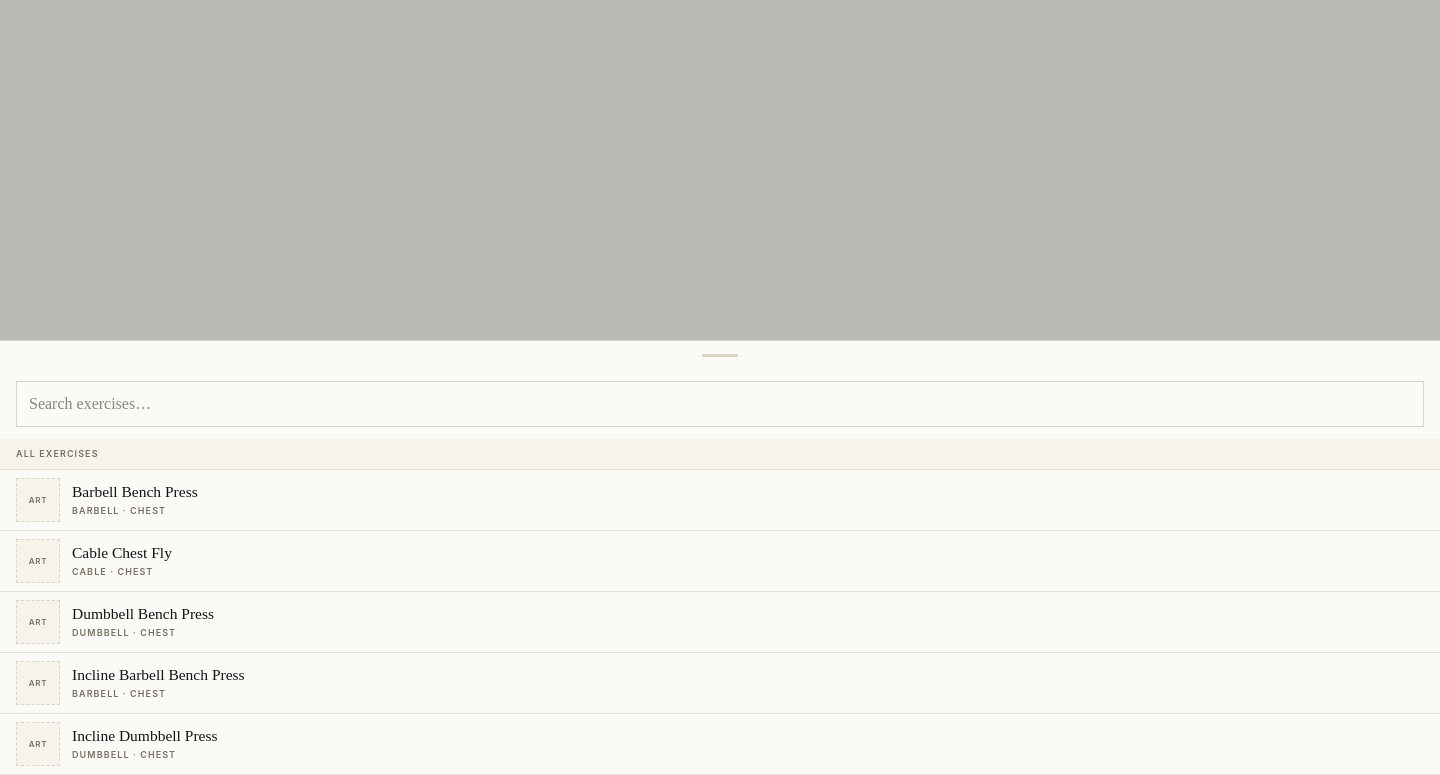
ExercisePicker › says so plainly when nothing matches, including that you cannot add your own yet
The image size is (1440, 775).
Type "zercher carry" into the search field with test id "exercise-search" at {"x": 720, "y": 404}, box [16, 381, 1424, 427]
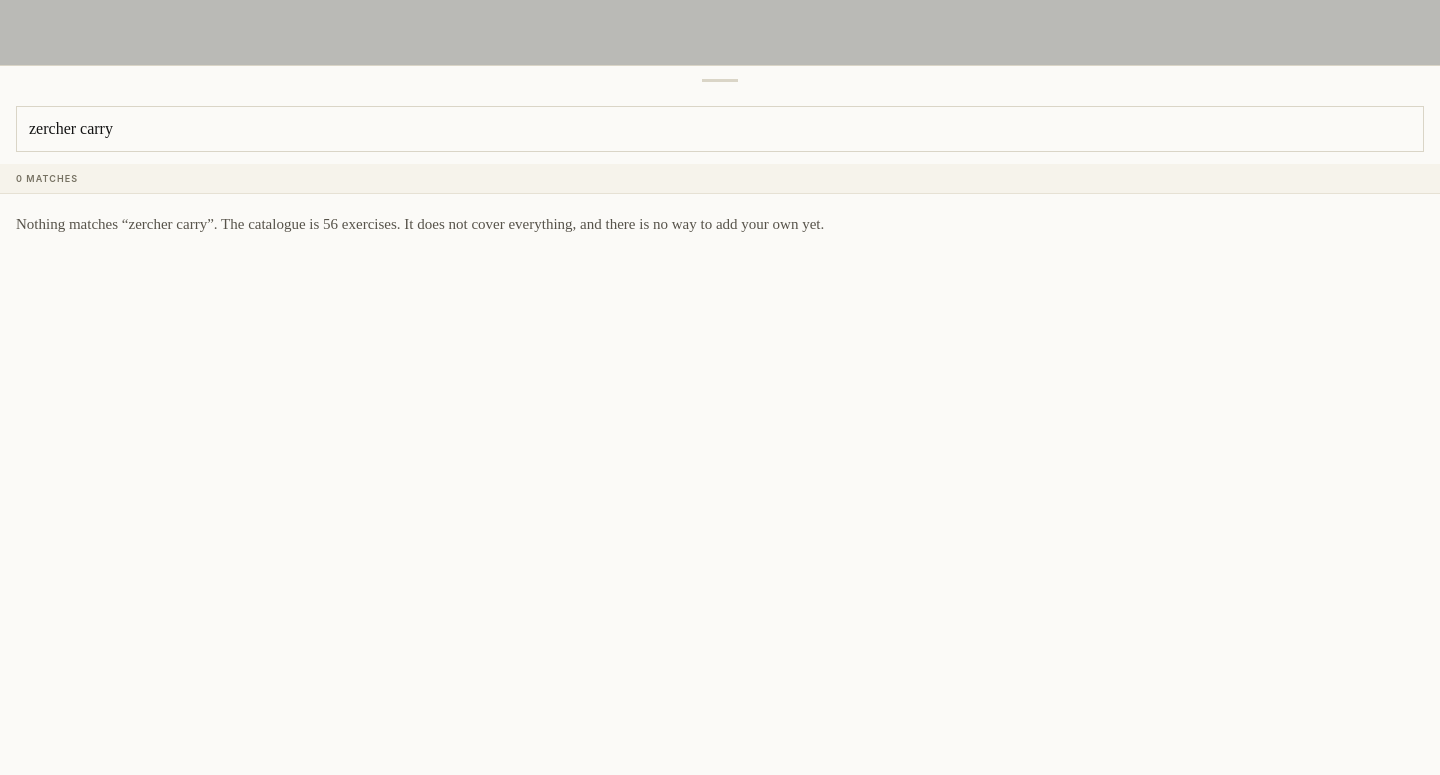
expect the button with test id "exercise-row" is gone: met
expect the text "no way to add your own yet" is shown: met, box [338, 216, 824, 232]
